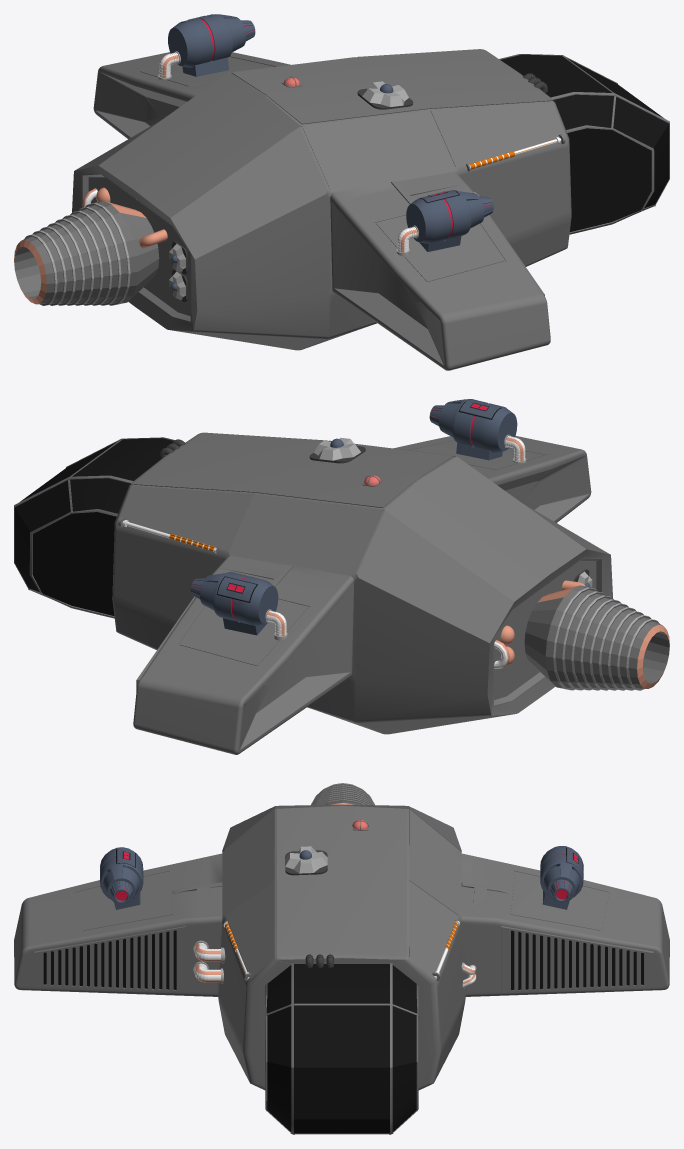
The model's file is UpdatedShip.fbx.
3 renders of one model, top to bottom at view 1: azimuth 30°, elevation 25°; view 2: azimuth 150°, elevation 25°; view 3: azimuth 270°, elevation 25°, orthographic. The views are drawn at different scales.
Visible parts, largest first — view 1: Cube, Cylinder.011, Cylinder.008, Cylinder, Cube.003, Cylinder.016; view 2: Cube, Cylinder.011, Cylinder, Cylinder.008, Cube.003, Cylinder.017; view 3: Cube, Cube.006, Cube.001, Cylinder.008, Cylinder, Cube.003, Cylinder.011.
Boxes of the visible parts, x1=… form: Cube: x1=72, y1=49, x2=669, y2=370; Cylinder.011: x1=14, y1=200, x2=159, y2=305; Cylinder.008: x1=168, y1=14, x2=255, y2=76; Cylinder: x1=406, y1=190, x2=493, y2=251; Cube.003: x1=357, y1=81, x2=413, y2=109; Cylinder.016: x1=466, y1=134, x2=565, y2=171; Cube: x1=14, y1=432, x2=612, y2=754; Cylinder.011: x1=524, y1=585, x2=669, y2=690; Cylinder: x1=429, y1=399, x2=517, y2=460; Cylinder.008: x1=190, y1=572, x2=278, y2=635; Cube.003: x1=309, y1=437, x2=365, y2=463; Cylinder.017: x1=118, y1=517, x2=218, y2=553; Cube: x1=14, y1=804, x2=669, y2=1134; Cube.006: x1=501, y1=926, x2=653, y2=992; Cube.001: x1=34, y1=926, x2=186, y2=992; Cylinder.008: x1=540, y1=846, x2=583, y2=909; Cylinder: x1=100, y1=847, x2=143, y2=909; Cube.003: x1=285, y1=846, x2=327, y2=875; Cylinder.011: x1=311, y1=783, x2=374, y2=805.
Size of the model in its own units: 1325 by 482 by 1324.
